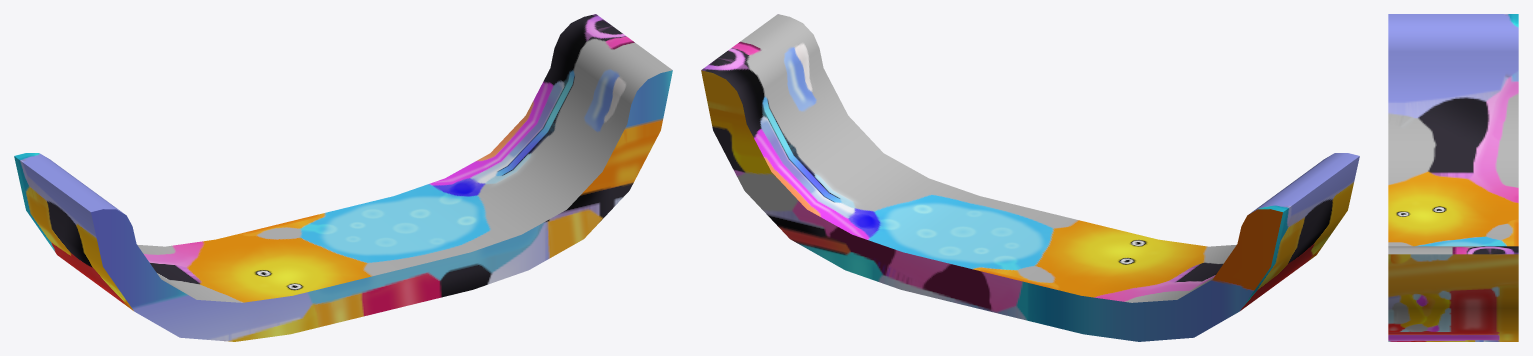
Rendered from dif7.fbx.
3 views of the same model, side by side, from view 1: azimuth 30°, elevation 25°; view 2: azimuth 150°, elevation 25°; view 3: azimuth 270°, elevation 25° (orthographic). The views are drawn at different scales.
Parts seen in each view (by area): view 1: BezierCurve; view 2: BezierCurve; view 3: BezierCurve.
Part boxes in pixels (x1,y1,x2,y2): BezierCurve: (14,14,672,341); BezierCurve: (701,14,1359,341); BezierCurve: (1388,14,1518,341).
Bounding box in the file's own units: 1535 × 431 × 351.
